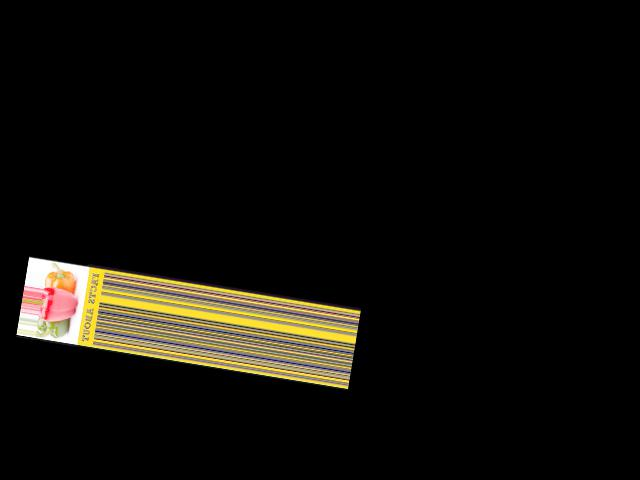bell_pepper: (35, 317, 74, 342)
